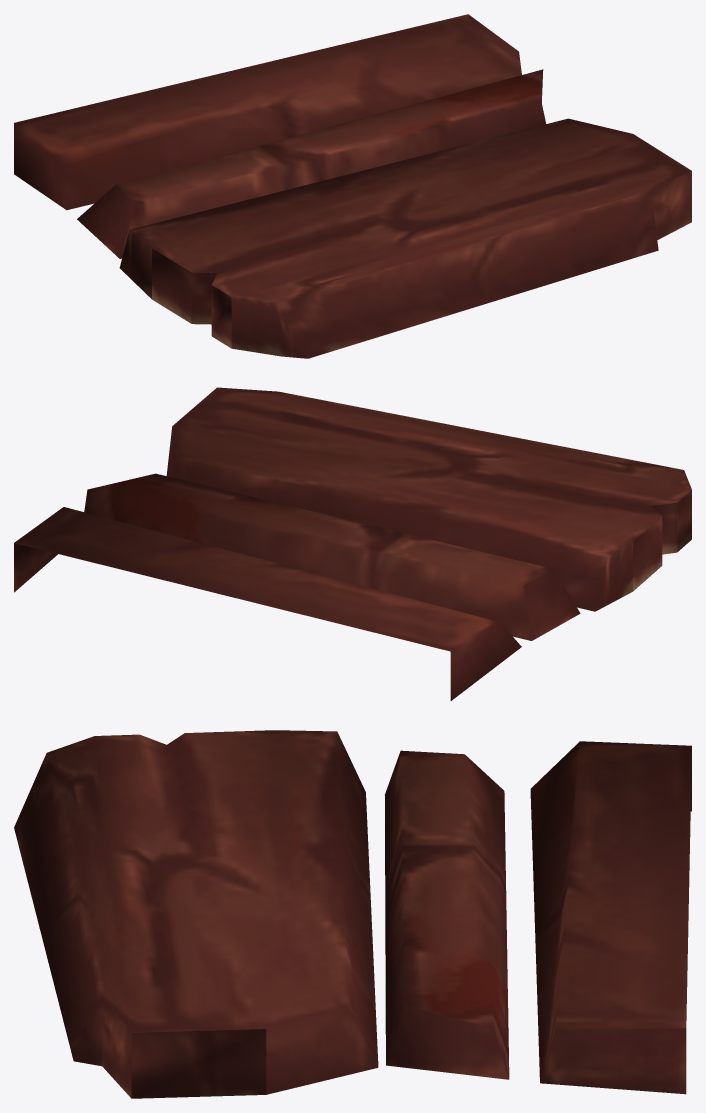
File: muqiao.FBX
The picture shows the model from 3 angles, top to bottom: view 1: azimuth 30°, elevation 25°; view 2: azimuth 150°, elevation 25°; view 3: azimuth 270°, elevation 25°; orthographic projection. The views are drawn at different scales.
Visible parts, largest first — view 1: terrain05-1, Object01, Object02; view 2: terrain05-1, Object02, Object01; view 3: terrain05-1, Object01, Object02.
Part boxes in pixels (bbox=[...]): terrain05-1: bbox=[119, 118, 691, 358]; Object01: bbox=[14, 14, 521, 210]; Object02: bbox=[77, 69, 545, 258]; terrain05-1: bbox=[166, 387, 691, 611]; Object02: bbox=[84, 473, 580, 640]; Object01: bbox=[14, 507, 521, 700]; terrain05-1: bbox=[14, 730, 378, 1098]; Object01: bbox=[530, 741, 691, 1094]; Object02: bbox=[384, 750, 509, 1079].
Size of the model in its own units: 512 by 484 by 51.91.
